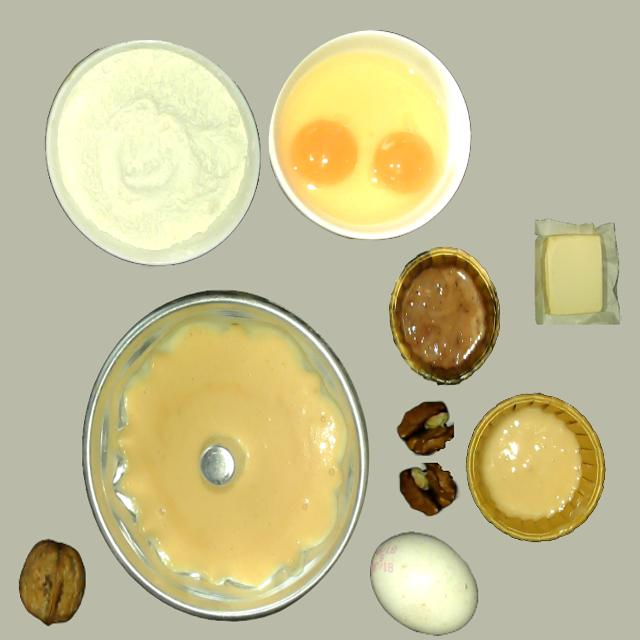Flour: (45, 39, 255, 264), (269, 31, 465, 240)
Walnut: (16, 534, 88, 626)
